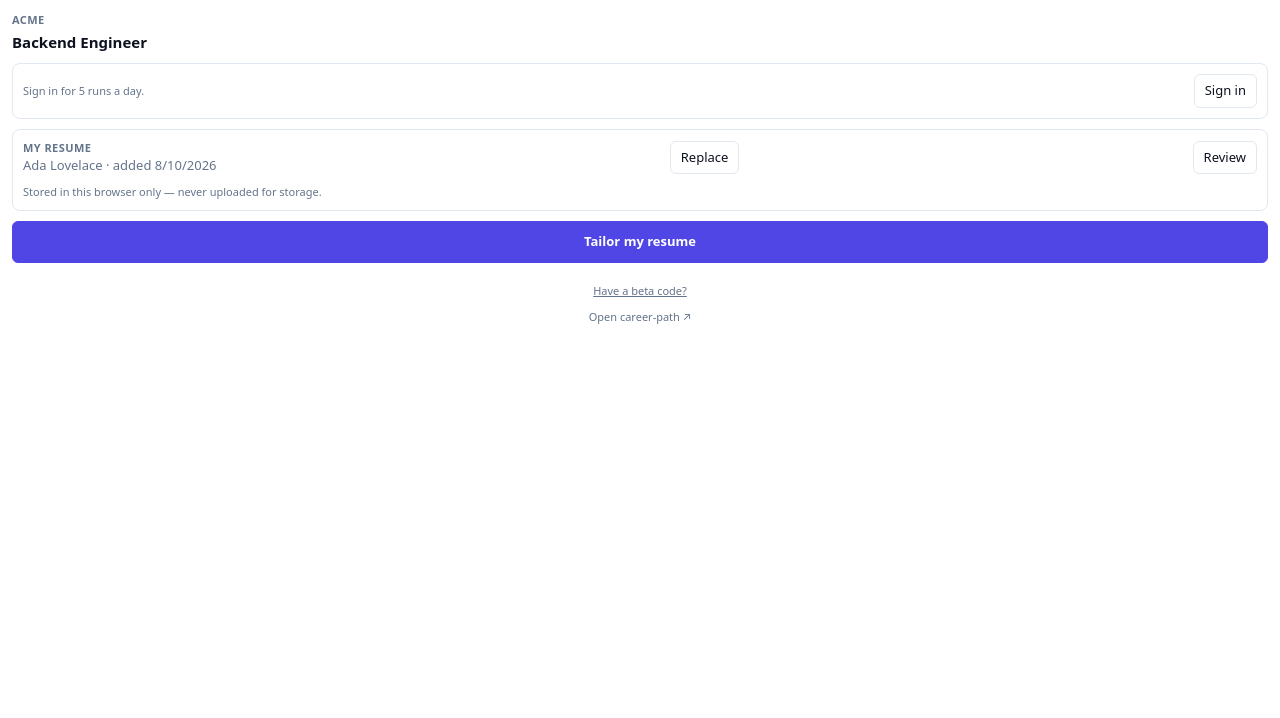
App - cross-posting state › shows a rescored score that went DOWN, without flooring it at the baseline
The width and height of the screenshot is (1280, 718).
Click the button "Tailor my resume". click: {"x": 640, "y": 242}
box: [12,221,1268,262]
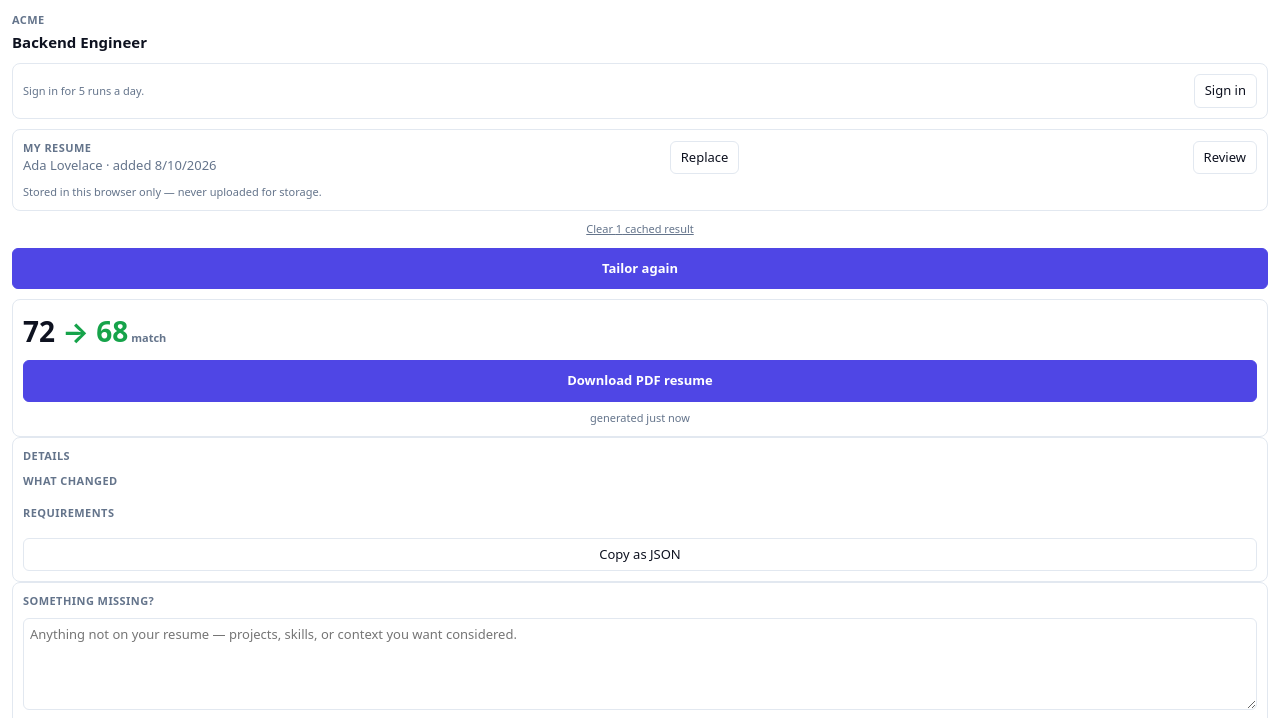
Result: the element showing "72 → 68 match" is shown at [23,312,166,350]
